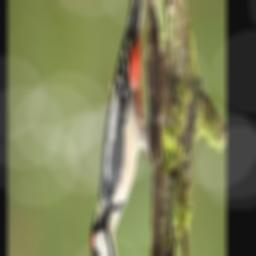Woodpecker: (91, 0, 163, 256)
